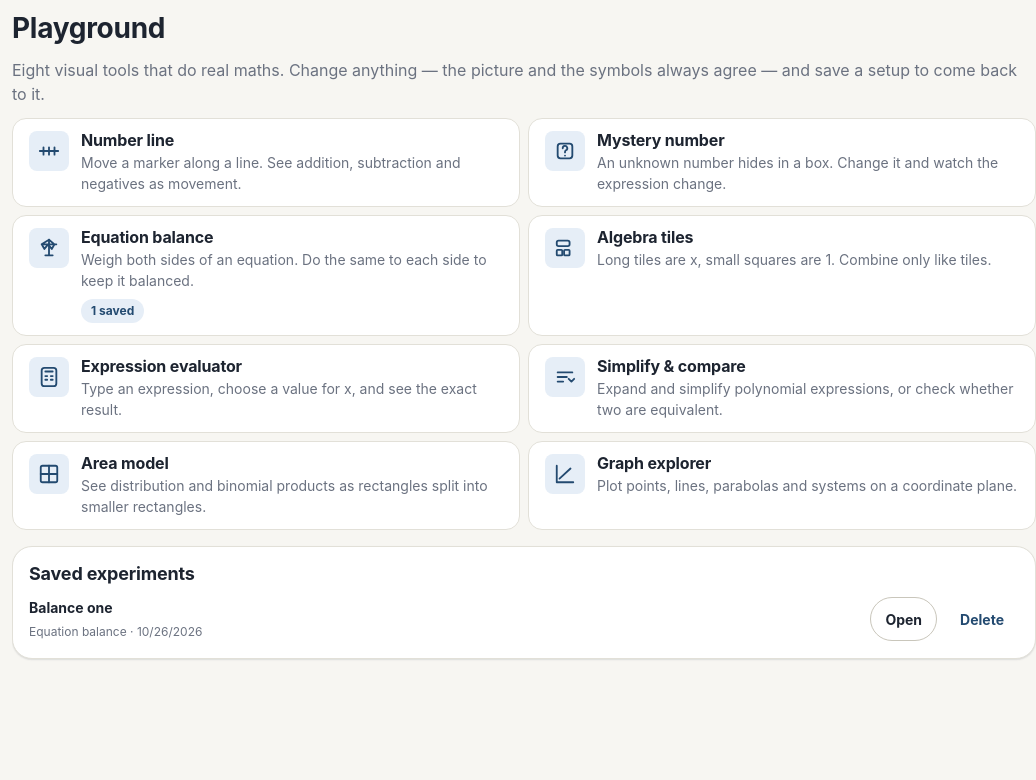
Test: playground saved experiments › deletes a saved experiment: confirms first, then removes the row and the stored record
This screenshot has width=1036, height=780.
expect the text "Balance one" is shown: met, box 29,599 -> 113,616
Step 1. Click the button with aria-label "Delete Balance one" → (982, 619), box 945,597 -> 1019,641
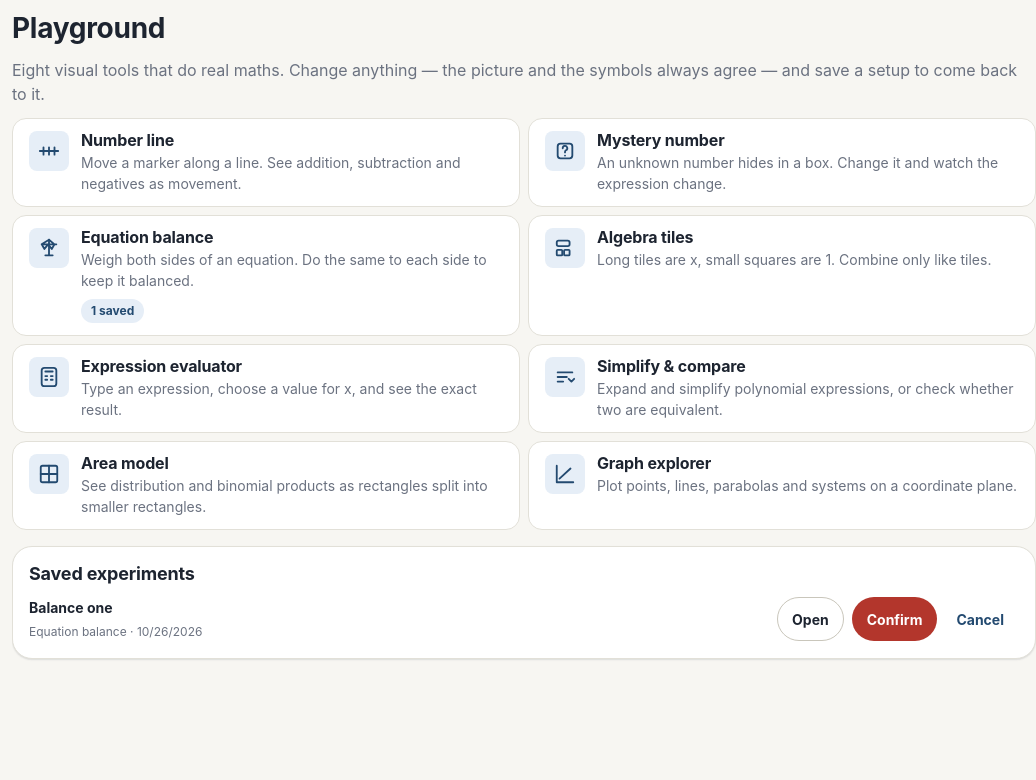
expect the text "Balance one" is shown: met, box 29,599 -> 113,616
Step 2. Click the button "Cancel" → (980, 619), box 941,597 -> 1019,641
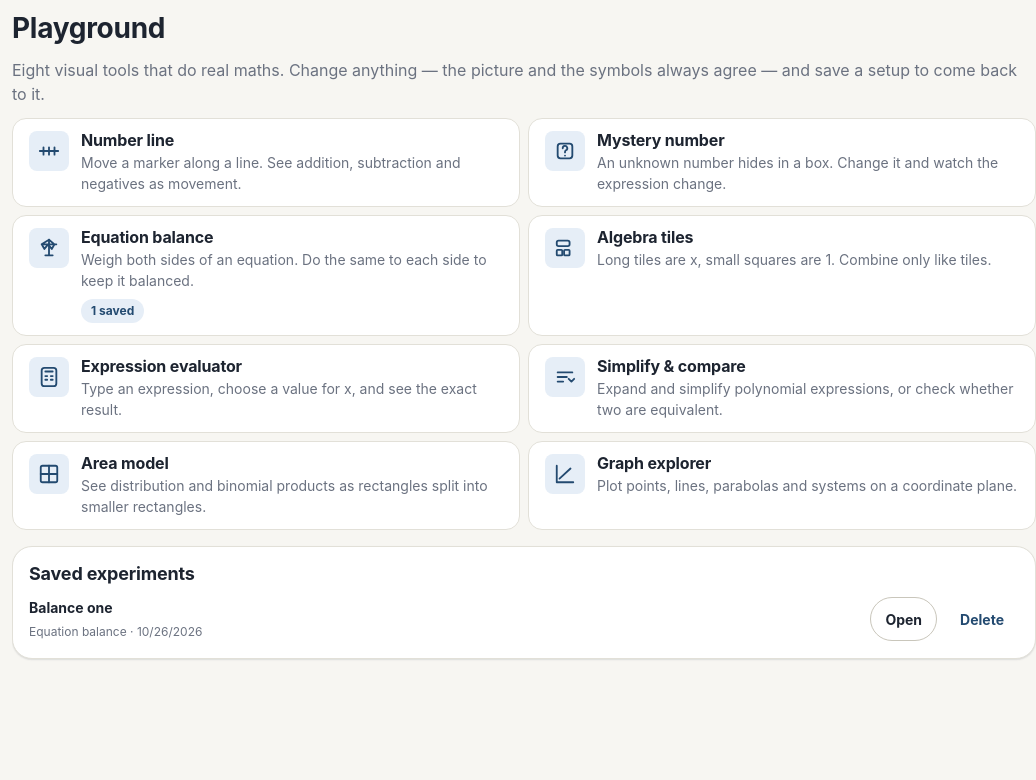
expect the button with aria-label "Delete Balance one" is shown: met
Step 3. Click the button with aria-label "Delete Balance one" → (982, 619), box 945,597 -> 1019,641
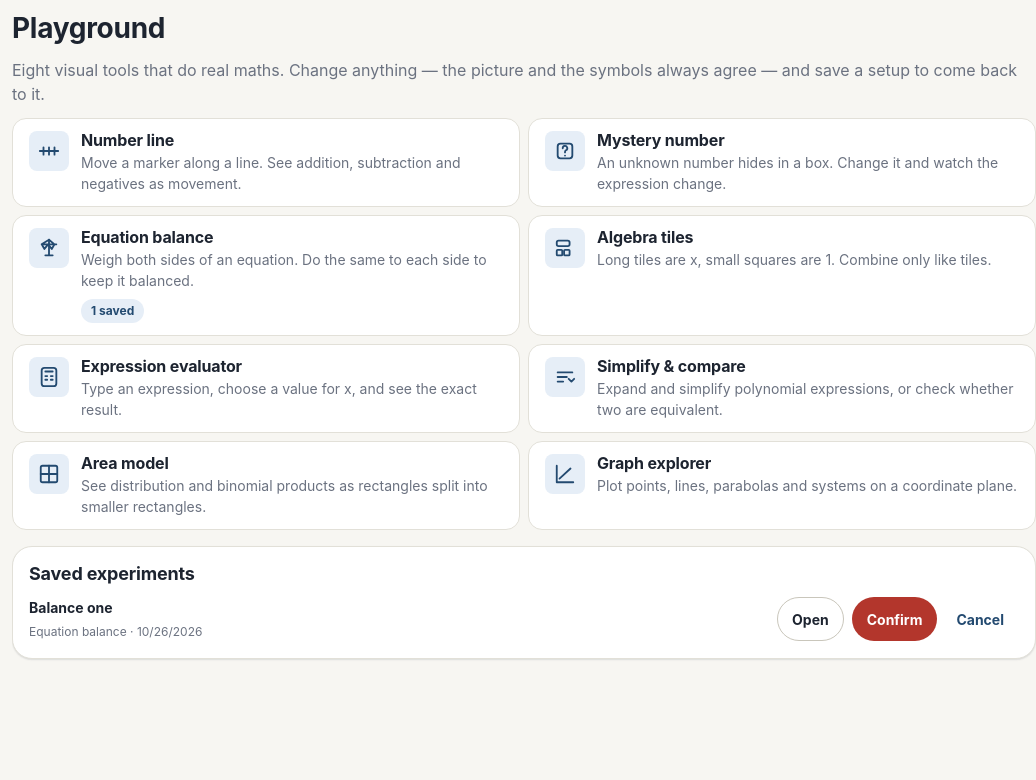
Step 4. Click the button "Confirm" → (895, 619), box 852,597 -> 937,641
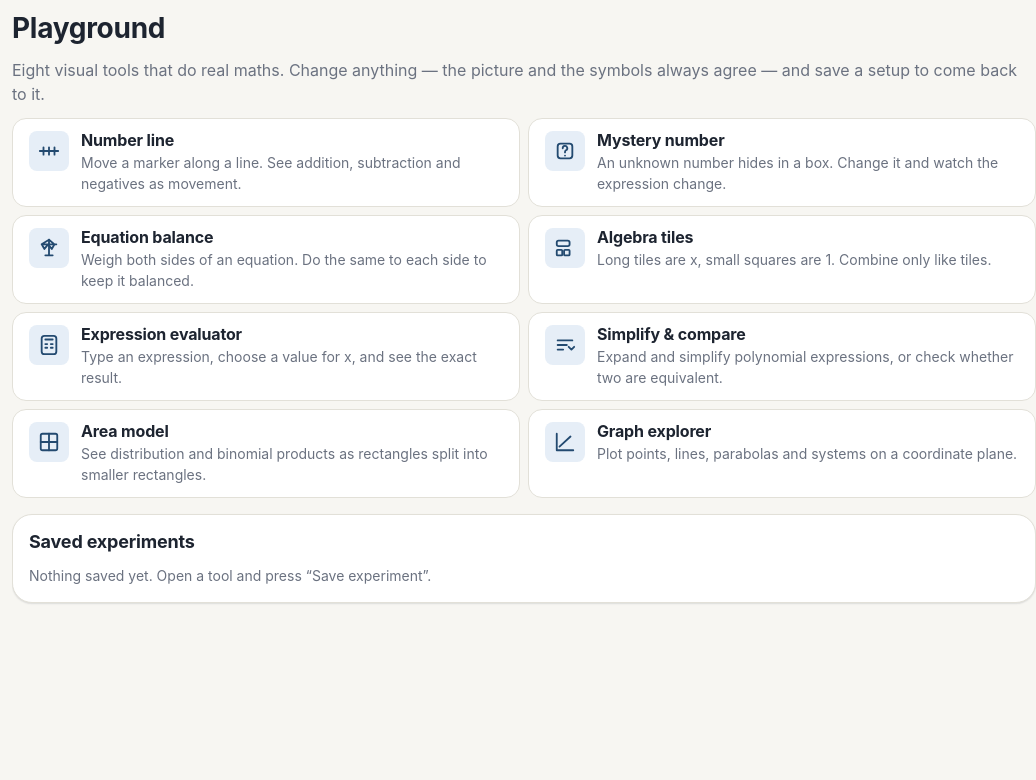
expect the text "Balance one" is gone: met
